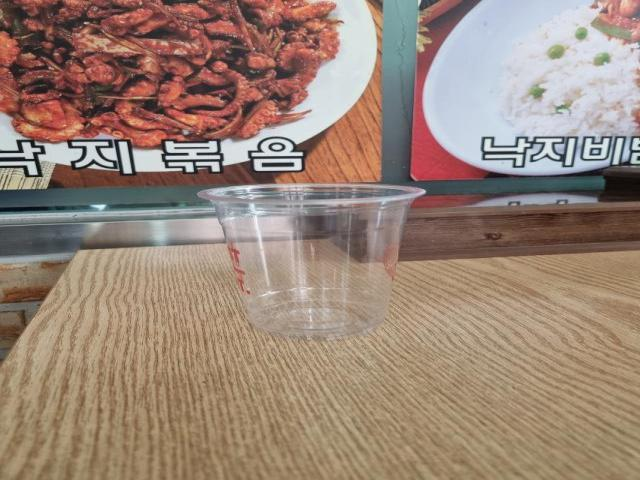cup: (192, 180, 430, 340)
